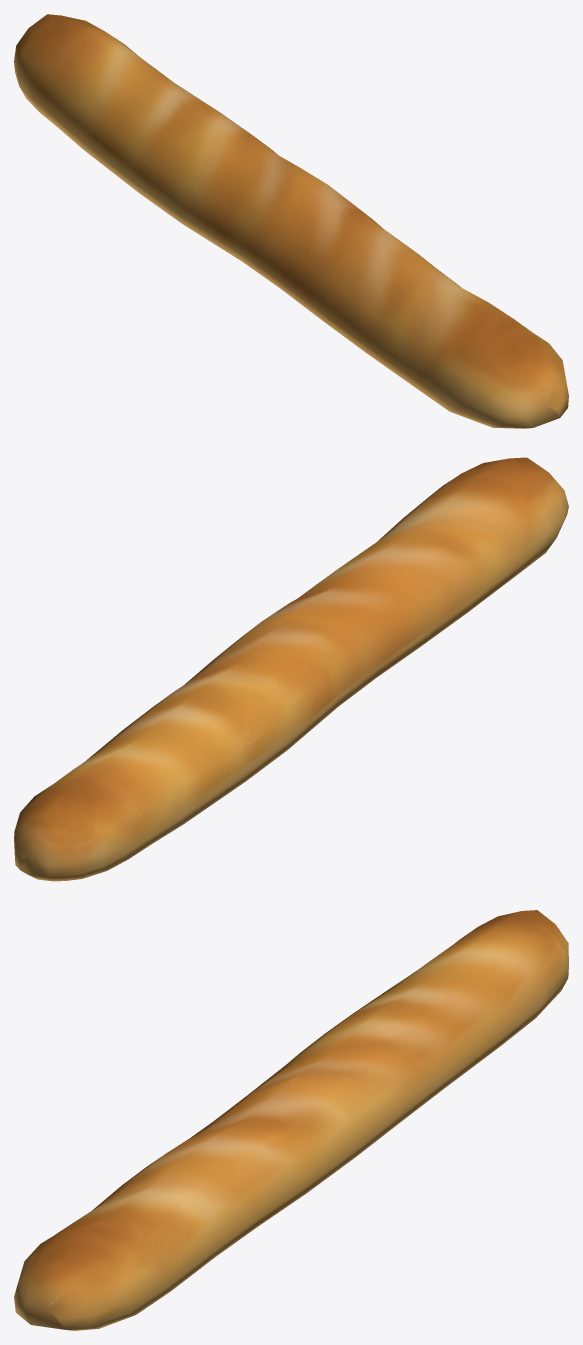
File: BaguetteWhole.glb
3 renders of one model, top to bottom at view 1: azimuth 30°, elevation 25°; view 2: azimuth 150°, elevation 25°; view 3: azimuth 330°, elevation 25°, orthographic.
Visible parts, largest first — view 1: BaguetteWhole; view 2: BaguetteWhole; view 3: BaguetteWhole.
Boxes of the visible parts, box(x1,y1,x2,y2) form: BaguetteWhole: box(14, 14, 568, 428); BaguetteWhole: box(14, 457, 568, 881); BaguetteWhole: box(14, 910, 568, 1330).
Size of the model in its own units: 1.04 by 0.6558 by 8.05.
1 material, 1 textured.
